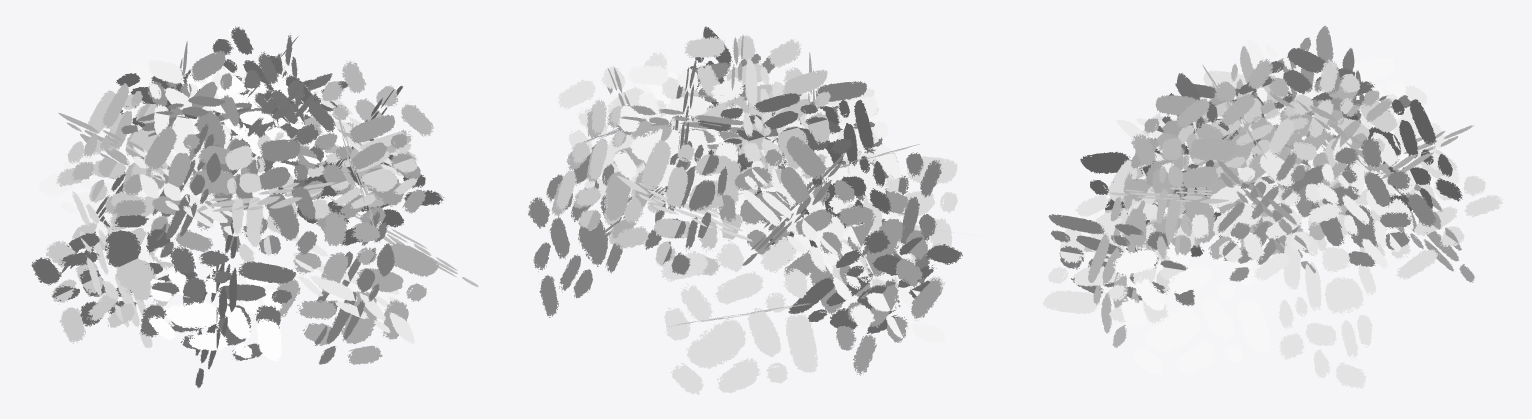
The model's file is grass 2.glb.
3 views of the same model, side by side, from view 1: azimuth 30°, elevation 25°; view 2: azimuth 150°, elevation 25°; view 3: azimuth 270°, elevation 25° (orthographic). The views are drawn at different scales.
Parts seen in each view (by area): view 1: sn_tree_oak.020; view 2: sn_tree_oak.020; view 3: sn_tree_oak.020.
Part boxes in pixels (left/top/right/bottom): sn_tree_oak.020: left=31, top=24, right=478, bottom=388; sn_tree_oak.020: left=528, top=26, right=974, bottom=394; sn_tree_oak.020: left=1042, top=25, right=1503, bottom=388.
Size of the model in its own units: 3 by 1.98 by 2.9.
1 material, 1 textured.
